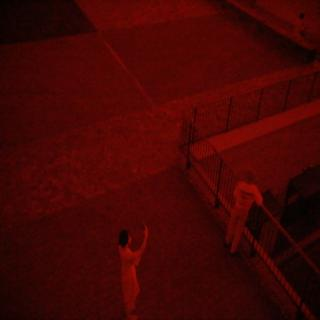person: (219, 164, 265, 266), (105, 222, 151, 313)
